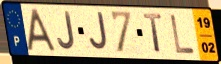7: (110, 9, 134, 55)
A: (25, 8, 58, 54)
J: (88, 11, 110, 53), (56, 10, 77, 51)
L: (169, 14, 197, 56)
T: (142, 13, 165, 56)
